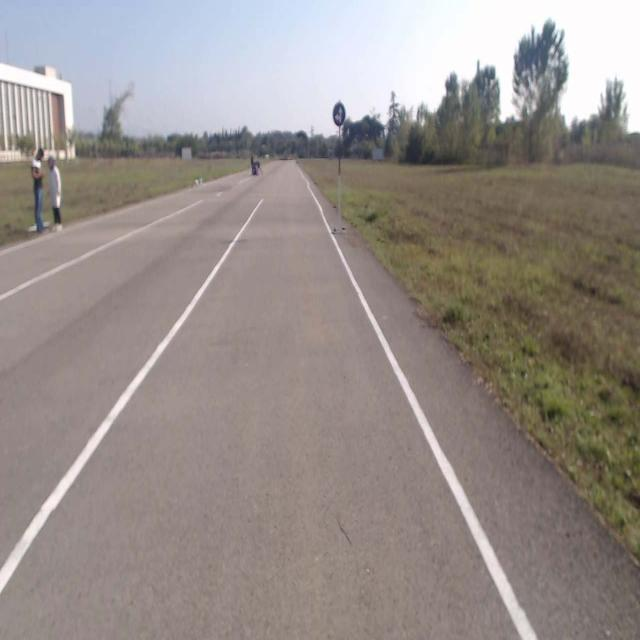ilerisol: (332, 102, 346, 125)
